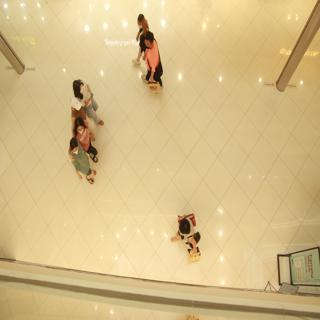person: (134, 32, 175, 93), (65, 74, 109, 118), (63, 135, 94, 186), (70, 114, 100, 157), (166, 206, 197, 237), (128, 9, 150, 33)
